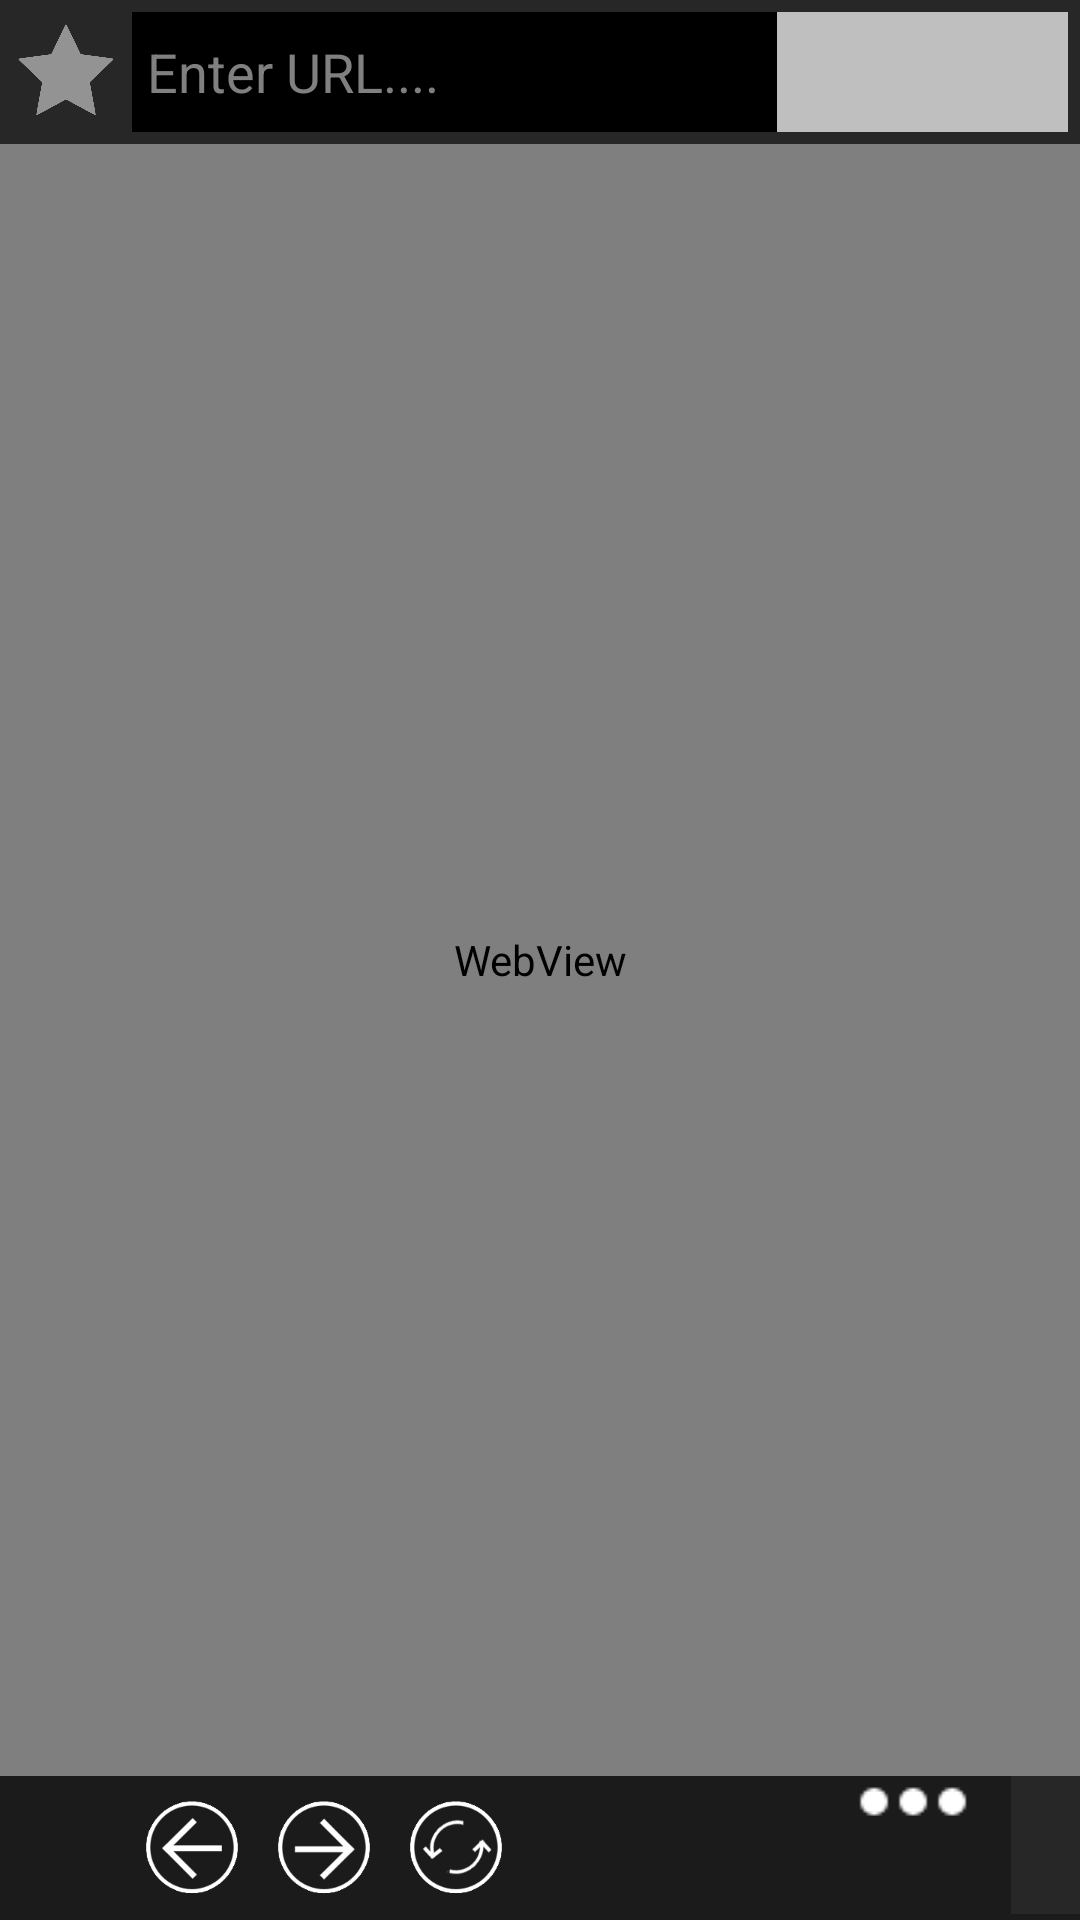

Named icons in this screenshot (1080 × 1920) and their bounding boxes, box=[x1, y1, x2, y2]:
arrow left: box=[146, 1801, 238, 1893]
arrow right: box=[278, 1801, 370, 1893]
reload: box=[410, 1801, 502, 1893]
star: box=[18, 25, 113, 115]
